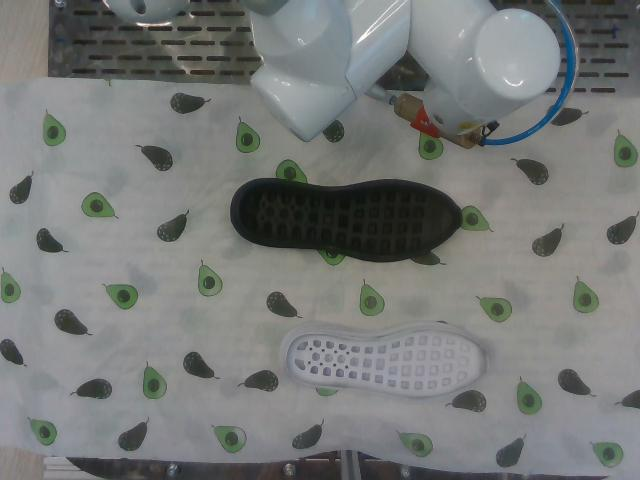shoes: (239, 183, 461, 255), (286, 330, 487, 399)
